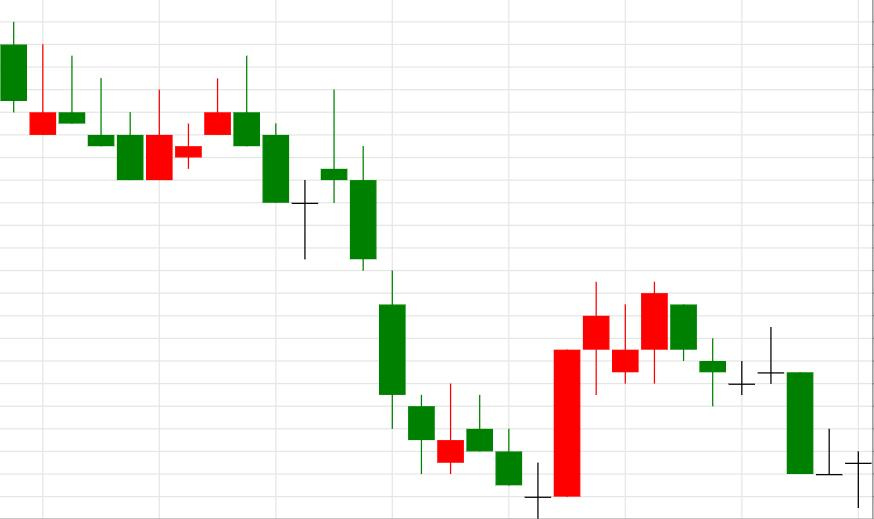morning_star_rise: (321, 89, 581, 519)
